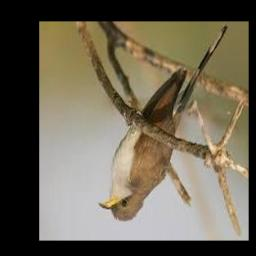Cuckoo: (99, 26, 227, 222)
